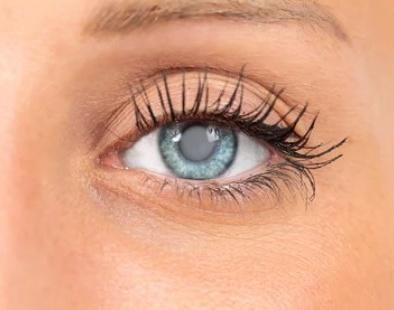eye: (158, 117, 238, 182)
